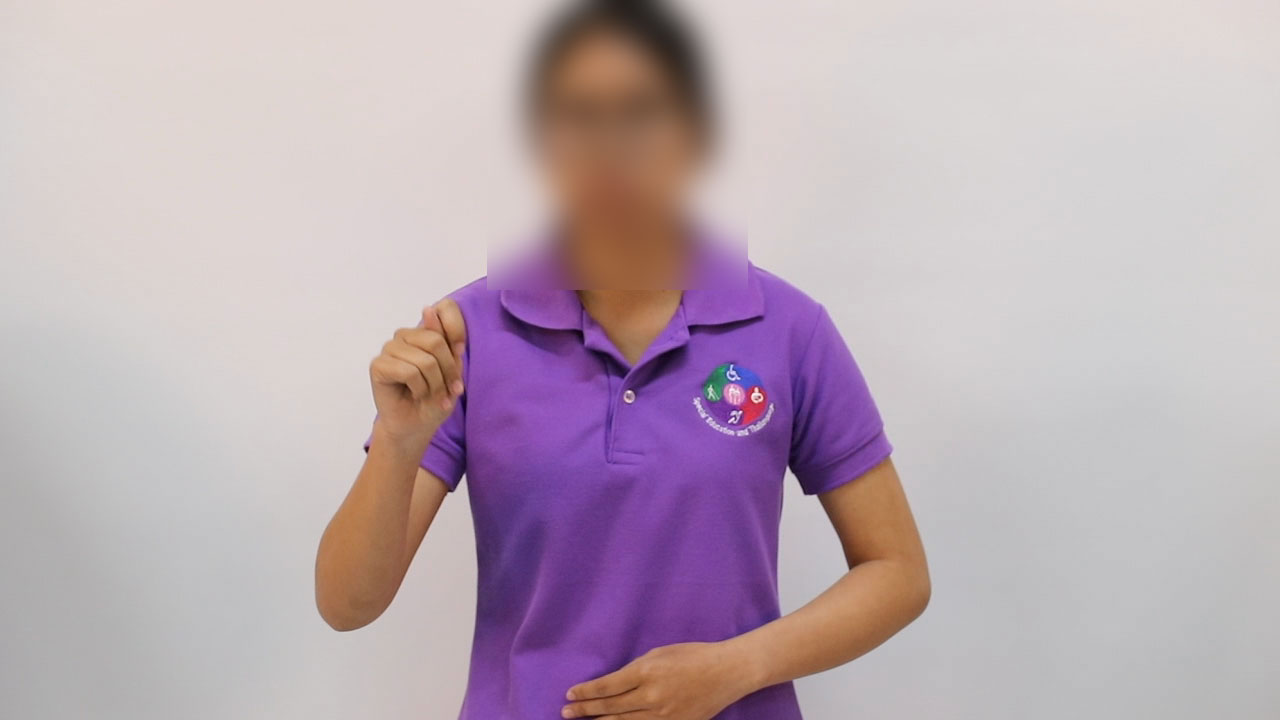tor: (343, 286, 486, 459)
